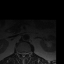CCS_normal: (22, 50, 24, 58)
LFS_normal: (26, 50, 28, 56)
LLS_normal: (24, 50, 26, 56)
RFS_stenosis: (19, 50, 21, 55)
RLS_normal: (21, 51, 22, 56)
